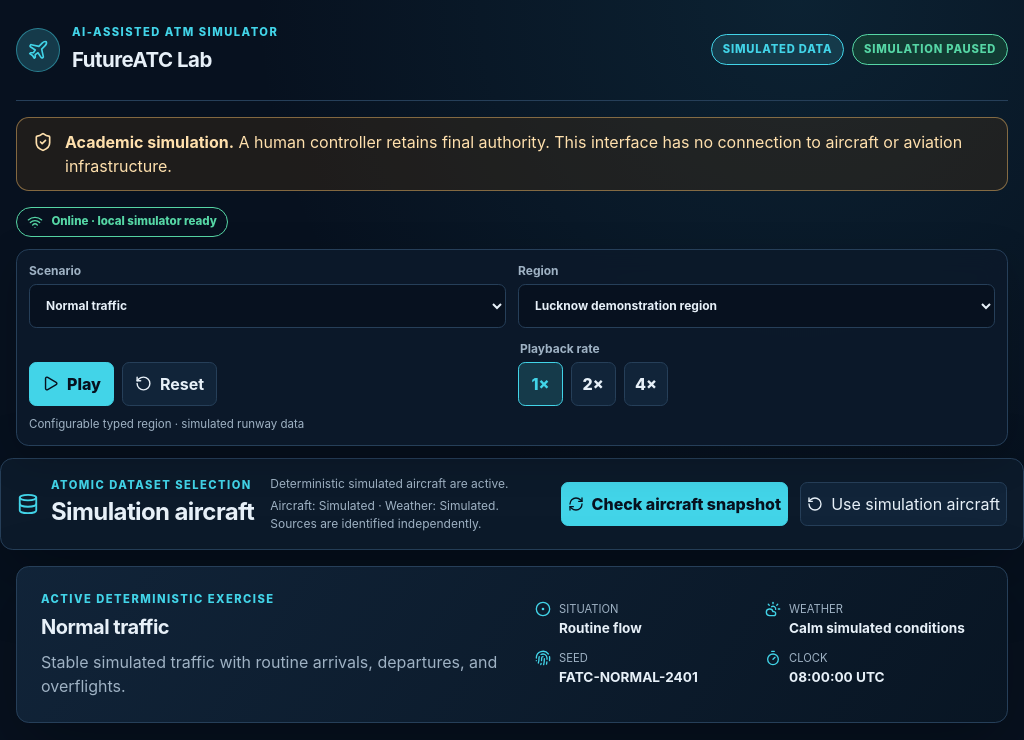
external aircraft mode integration › shows exact workflow retry metadata only when supplied
Click the button "Check aircraft snapshot".
click(674, 504)  # box 561,482 -> 788,526
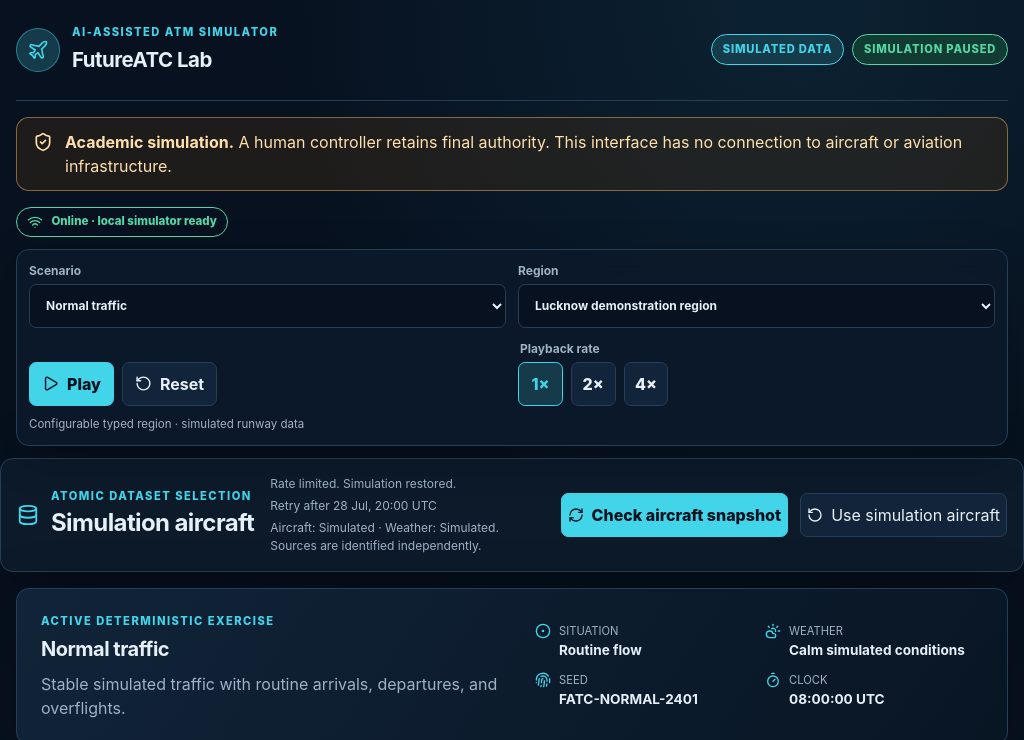
Now the text "Rate limited. Simulation restored." is shown, box 270,476 -> 456,491
Now the text "Retry after 28 Jul, 20:00 UTC" is shown, box 270,498 -> 437,513
